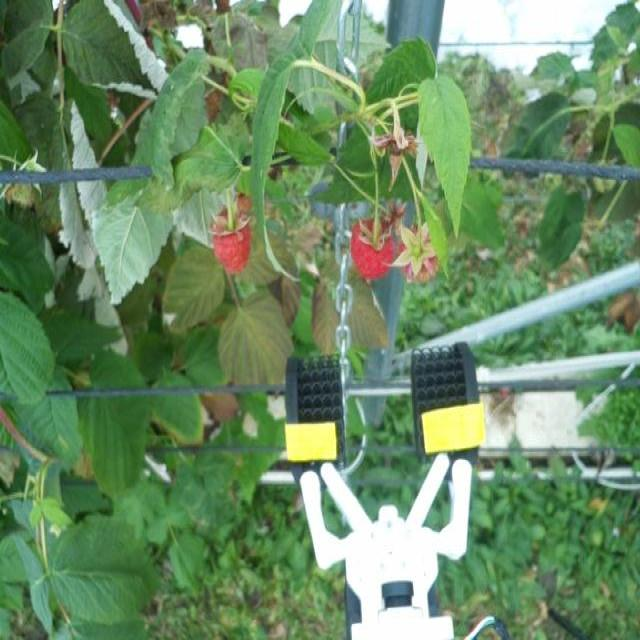Riped berries: (209, 200, 253, 276), (349, 215, 393, 280), (397, 219, 442, 282)
